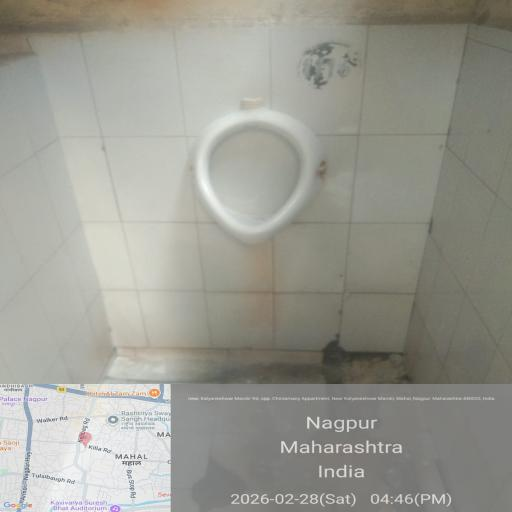clean_urinal: (137, 92, 388, 249)
dirty_floor: (17, 253, 472, 512)
